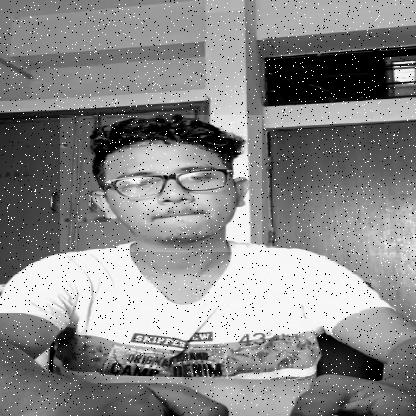Normal: (60, 115, 262, 252)
